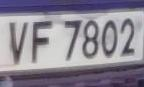0: (100, 15, 121, 65)
2: (119, 13, 139, 64)
7: (60, 16, 85, 67)
8: (81, 16, 102, 66)
F: (29, 19, 56, 67)
V: (6, 16, 32, 68)
